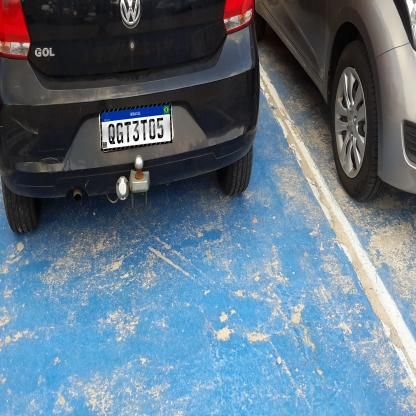PlacaM: (100, 102, 172, 152)
